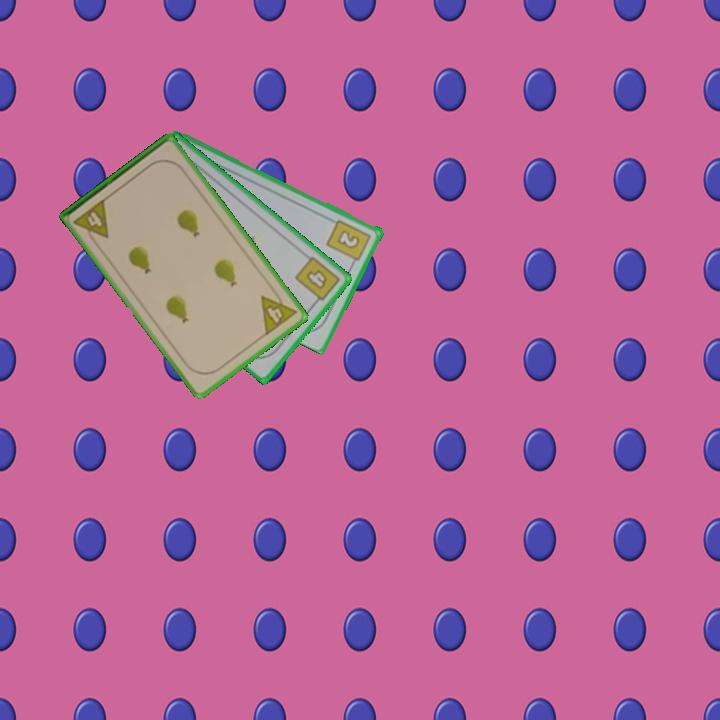2b: (323, 216, 374, 268)
4b: (291, 253, 343, 308)
4p: (257, 284, 300, 338), (70, 195, 112, 248)
